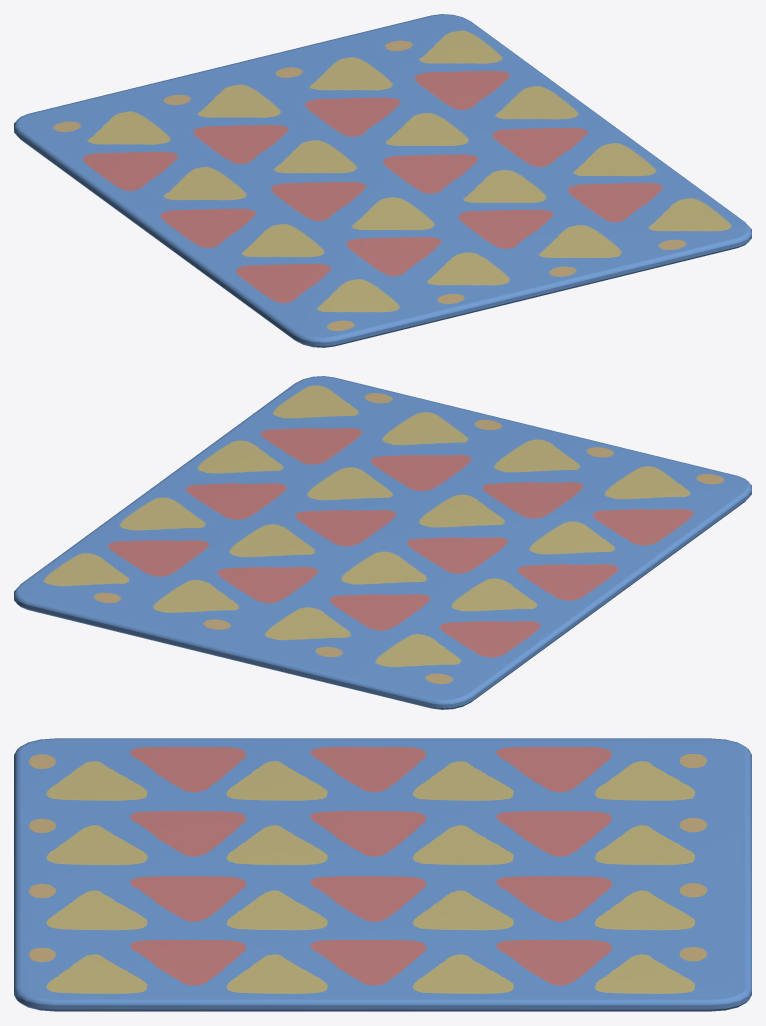
The model's file is Farmhouse_ROOM_rug_v01.glb.
3 renders of one model, top to bottom at view 1: azimuth 30°, elevation 25°; view 2: azimuth 150°, elevation 25°; view 3: azimuth 270°, elevation 25°, orthographic. The views are drawn at different scales.
Visible parts, largest first — view 1: Farmhouse_ROOM_rug_v01; view 2: Farmhouse_ROOM_rug_v01; view 3: Farmhouse_ROOM_rug_v01.
Boxes of the visible parts, x1,y1,x2,y2 form: Farmhouse_ROOM_rug_v01: (14,14,751,347); Farmhouse_ROOM_rug_v01: (14,376,751,709); Farmhouse_ROOM_rug_v01: (14,738,751,1011).
Bounding box in the file's own units: 2 × 0.0387 × 2.36.
1 material, 1 textured.
